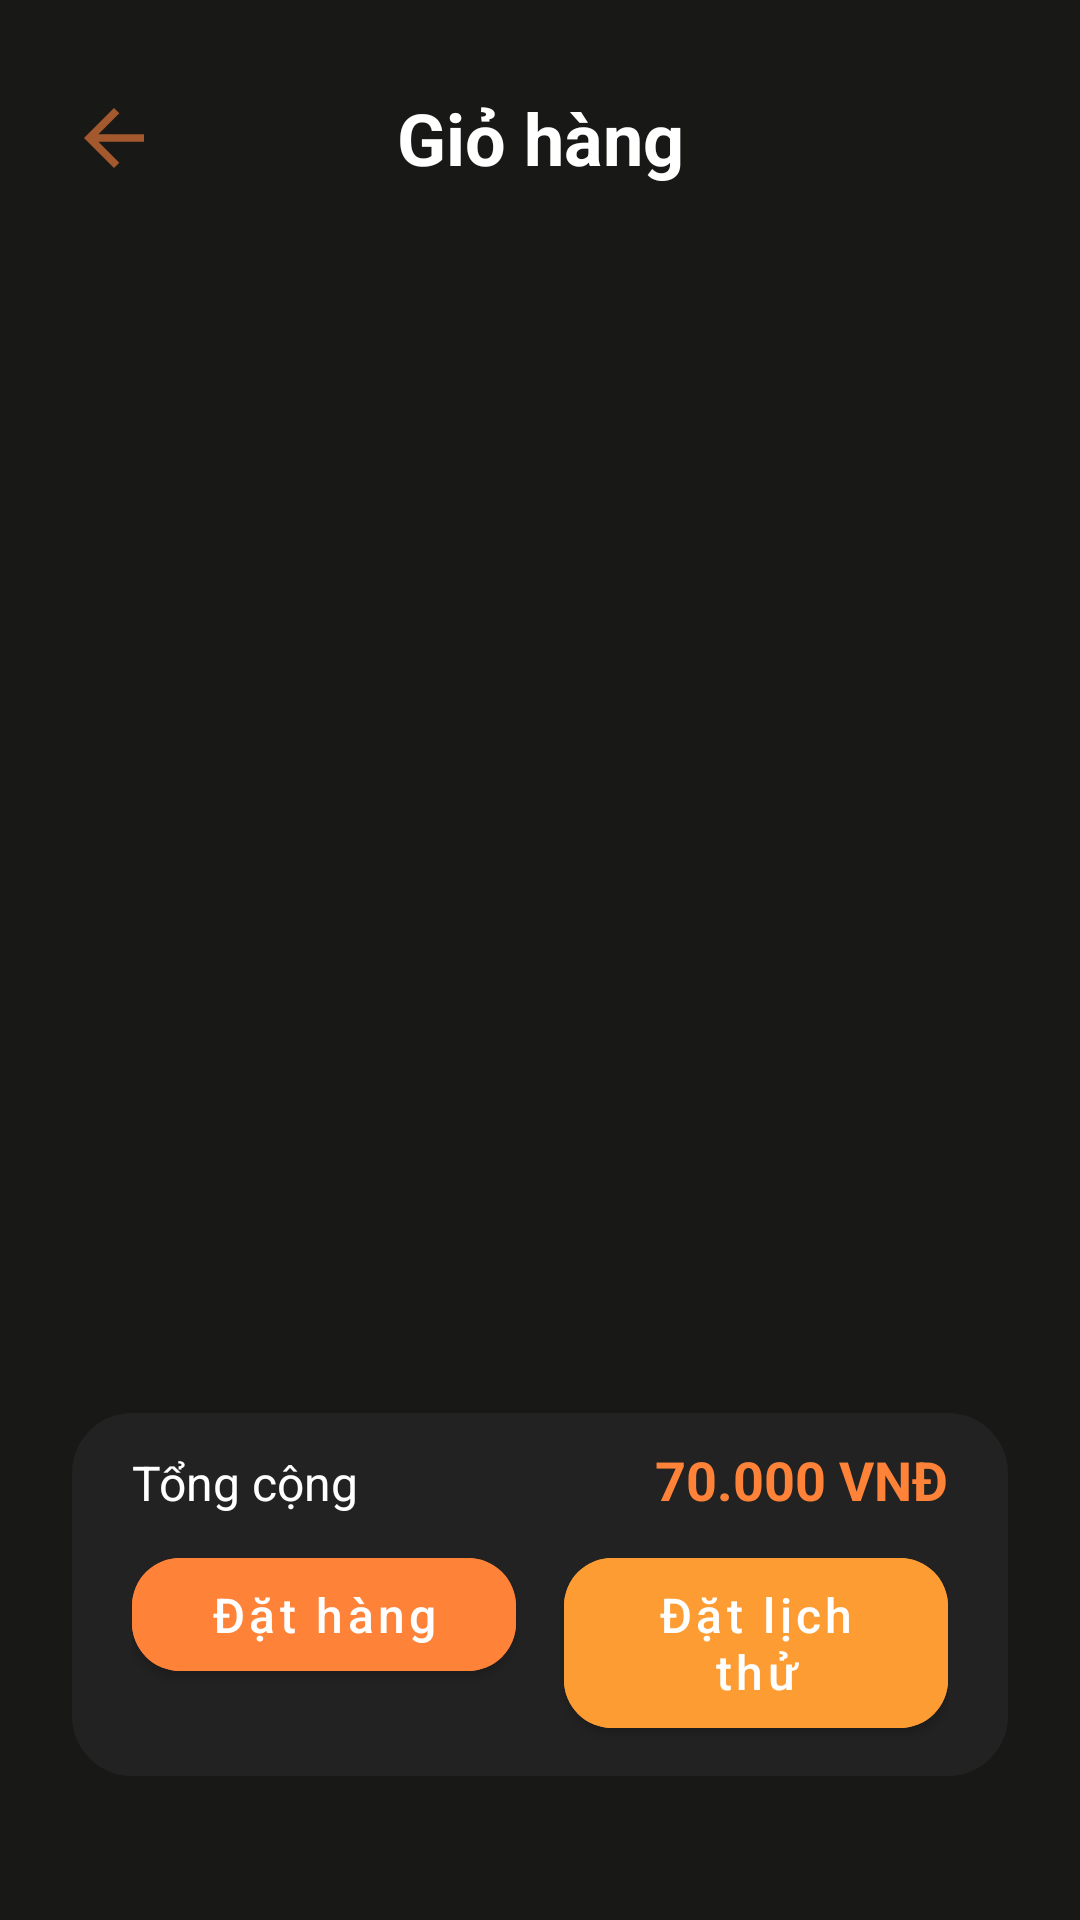

Named icons in this screenshot (1080 × 1920) and their centers, (x,y):
back: (114,138)
